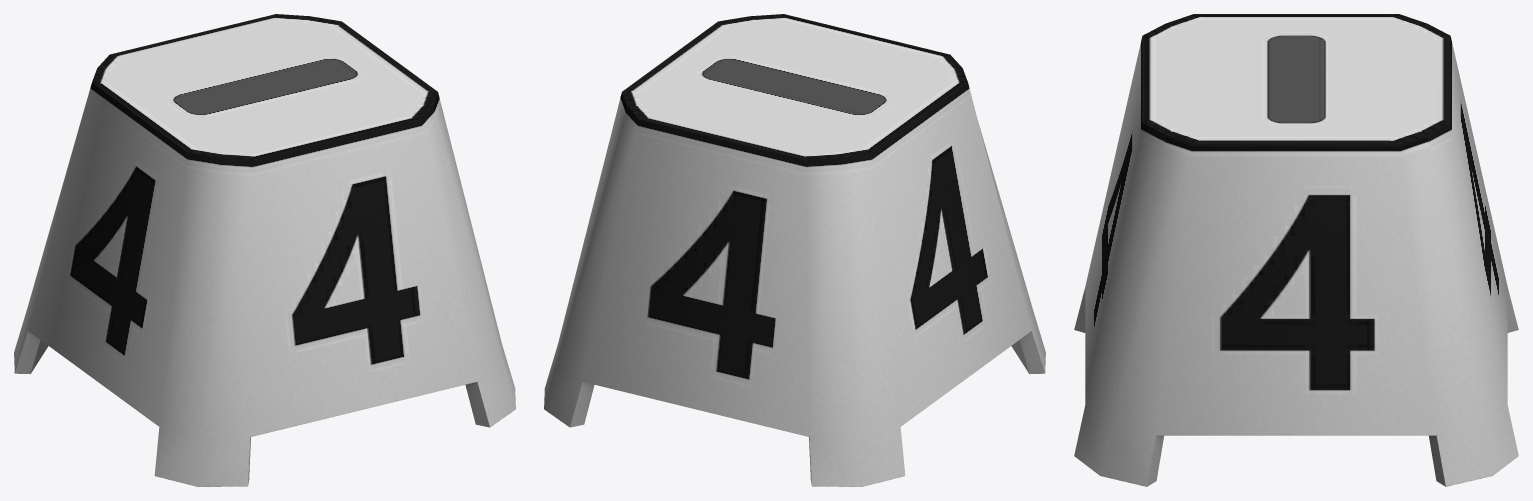
3 renders of one model, left to right at view 1: azimuth 30°, elevation 25°; view 2: azimuth 150°, elevation 25°; view 3: azimuth 270°, elevation 25°, orthographic. The views are drawn at different scales.
Parts seen in each view (by area): view 1: No_4_Box; view 2: No_4_Box; view 3: No_4_Box.
Boxes of the visible parts, x1,y1,x2,y2 form: No_4_Box: [14, 14, 515, 486]; No_4_Box: [544, 14, 1045, 486]; No_4_Box: [1074, 14, 1518, 486].
Size of the model in its own units: 0.4097 by 0.319 by 0.4097.
1 material, 1 textured.
